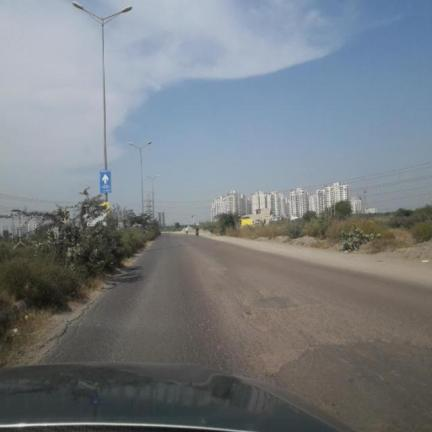Road: (43, 234, 431, 430)
